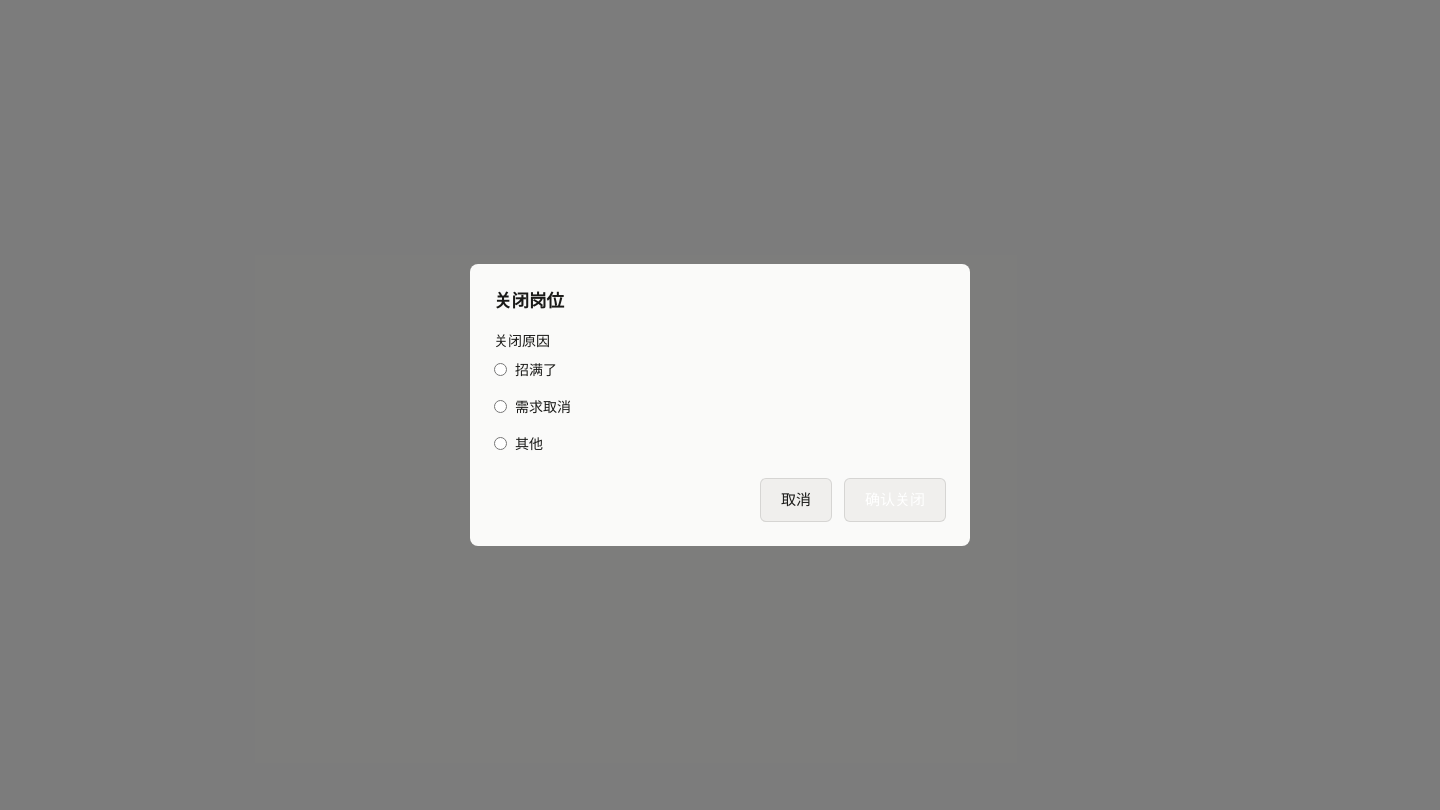
CloseJobDialog › 未选择关闭原因时在弹窗内显示错误提示
This screenshot has width=1440, height=810.
Click the button with class "btn-danger": (895, 500) 844,478 -> 946,522
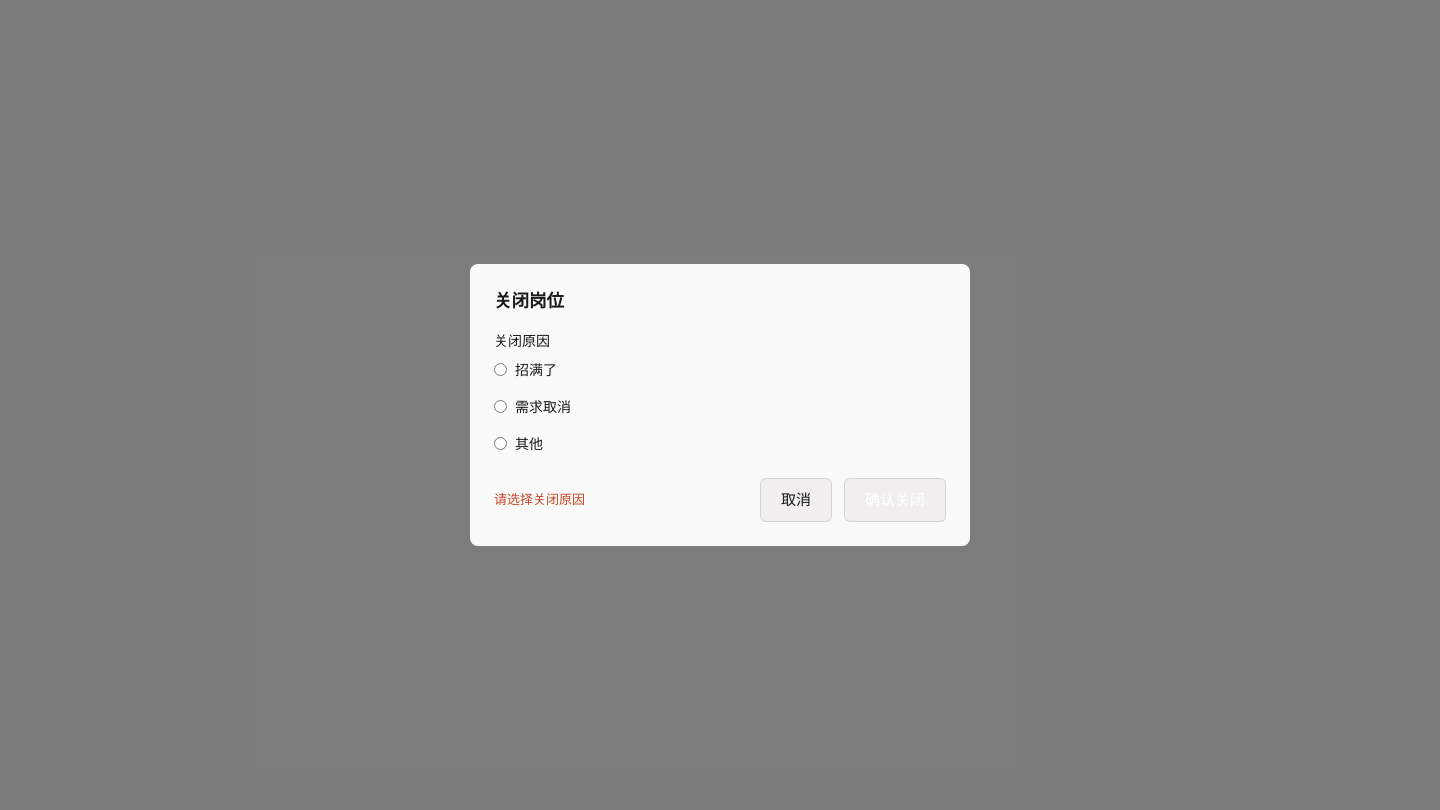
Expected: the text "请选择关闭原因" is shown, 494,490 -> 585,510
